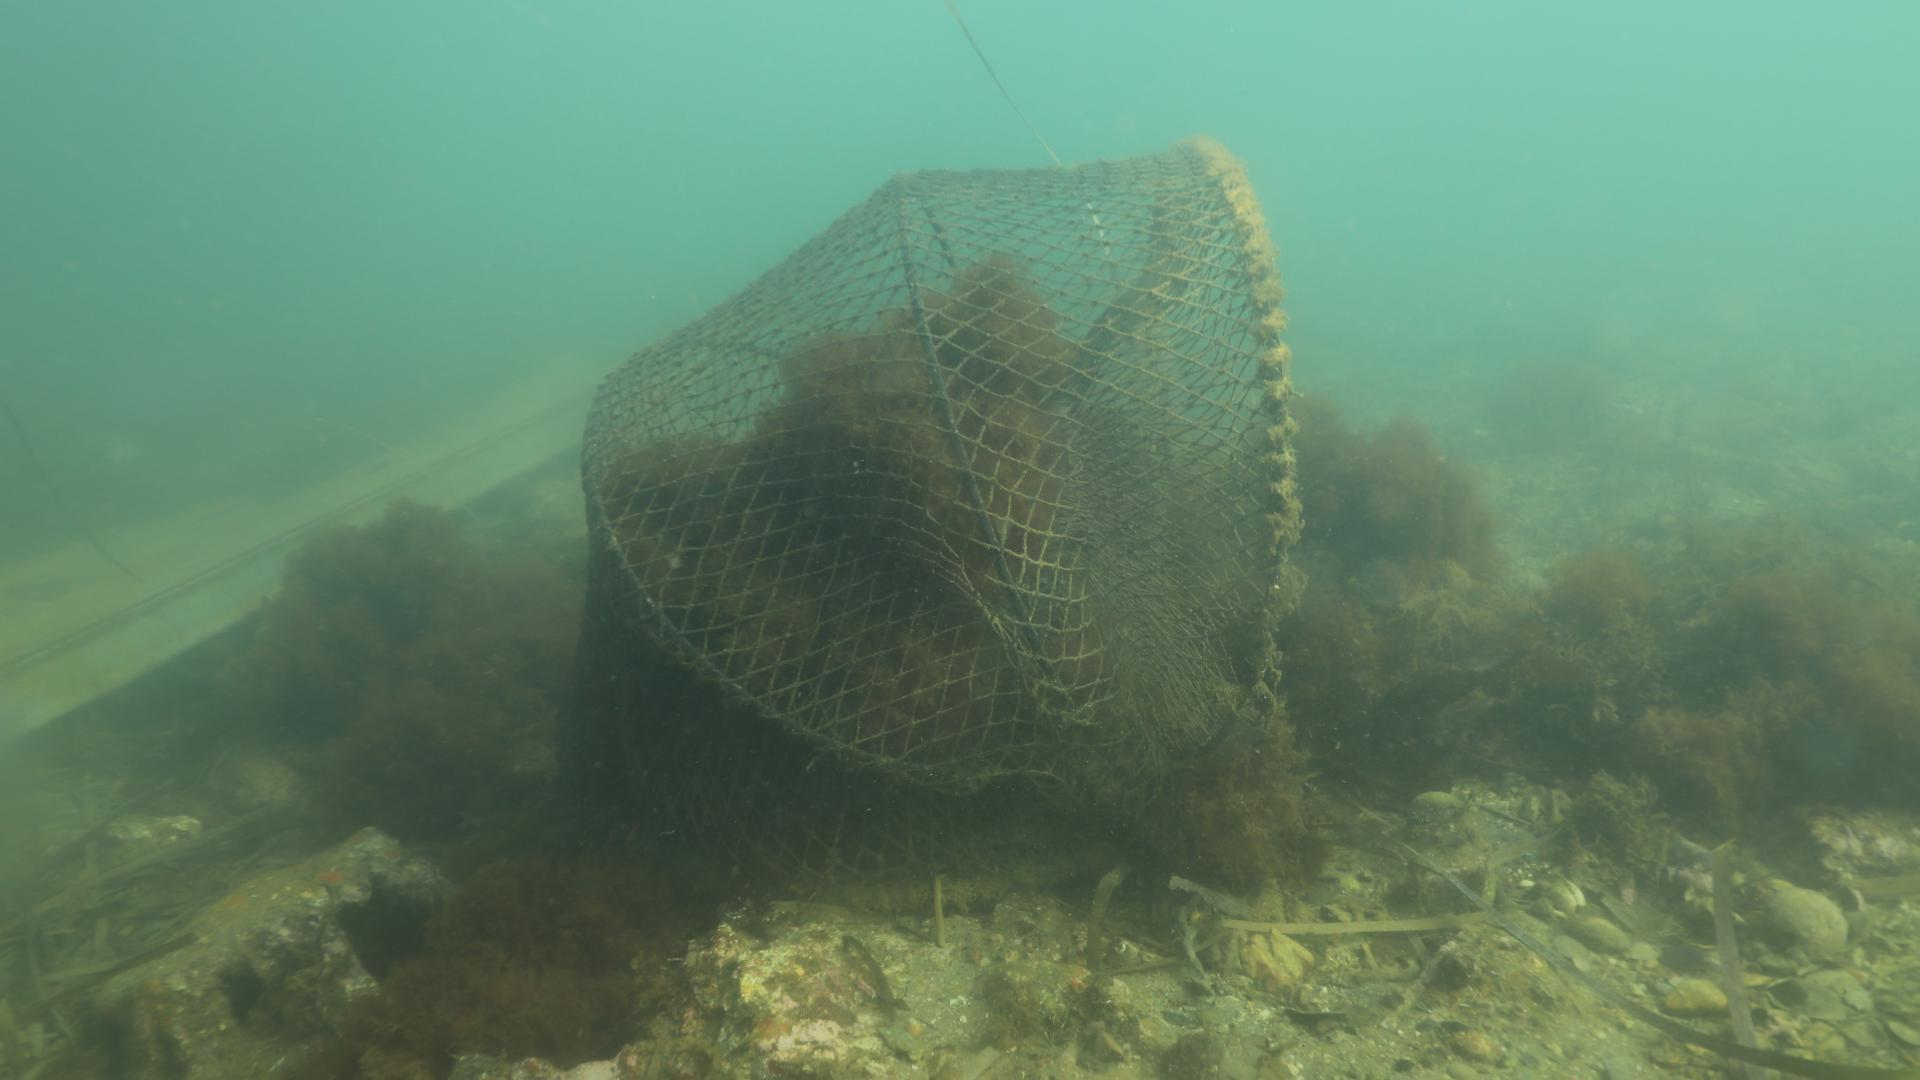spring fish trap: (553, 131, 1294, 893)
